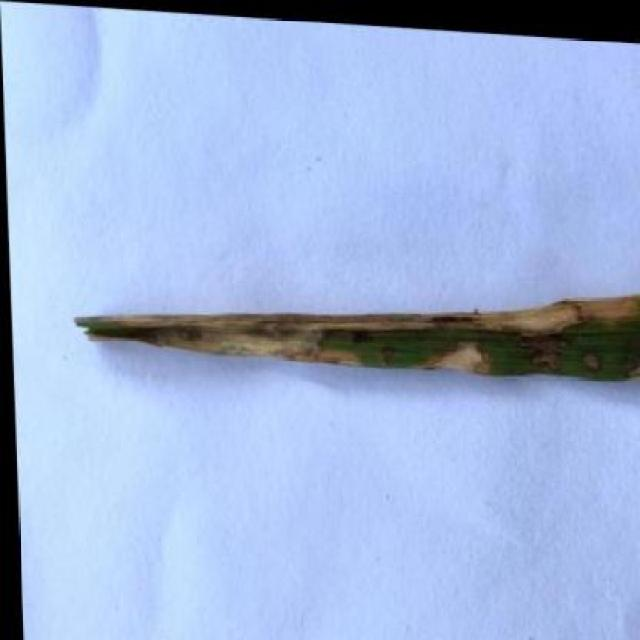Brown_Spot: (51, 253, 640, 389)
